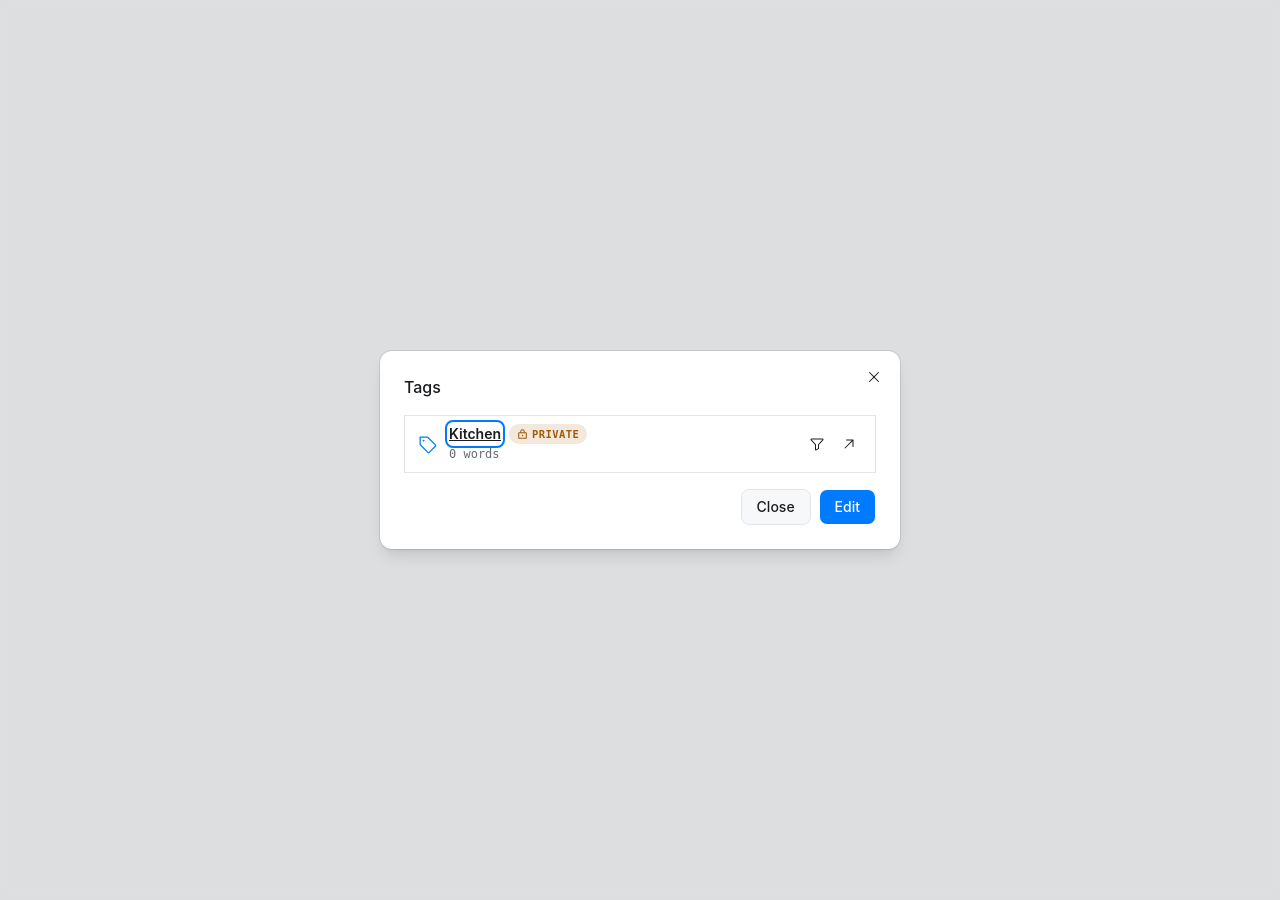
it: TagsDialog › Edit shows the × and the add box; Cancel goes back to display mode
Click the button "Edit".
click(847, 507)  # box [819, 489, 876, 525]
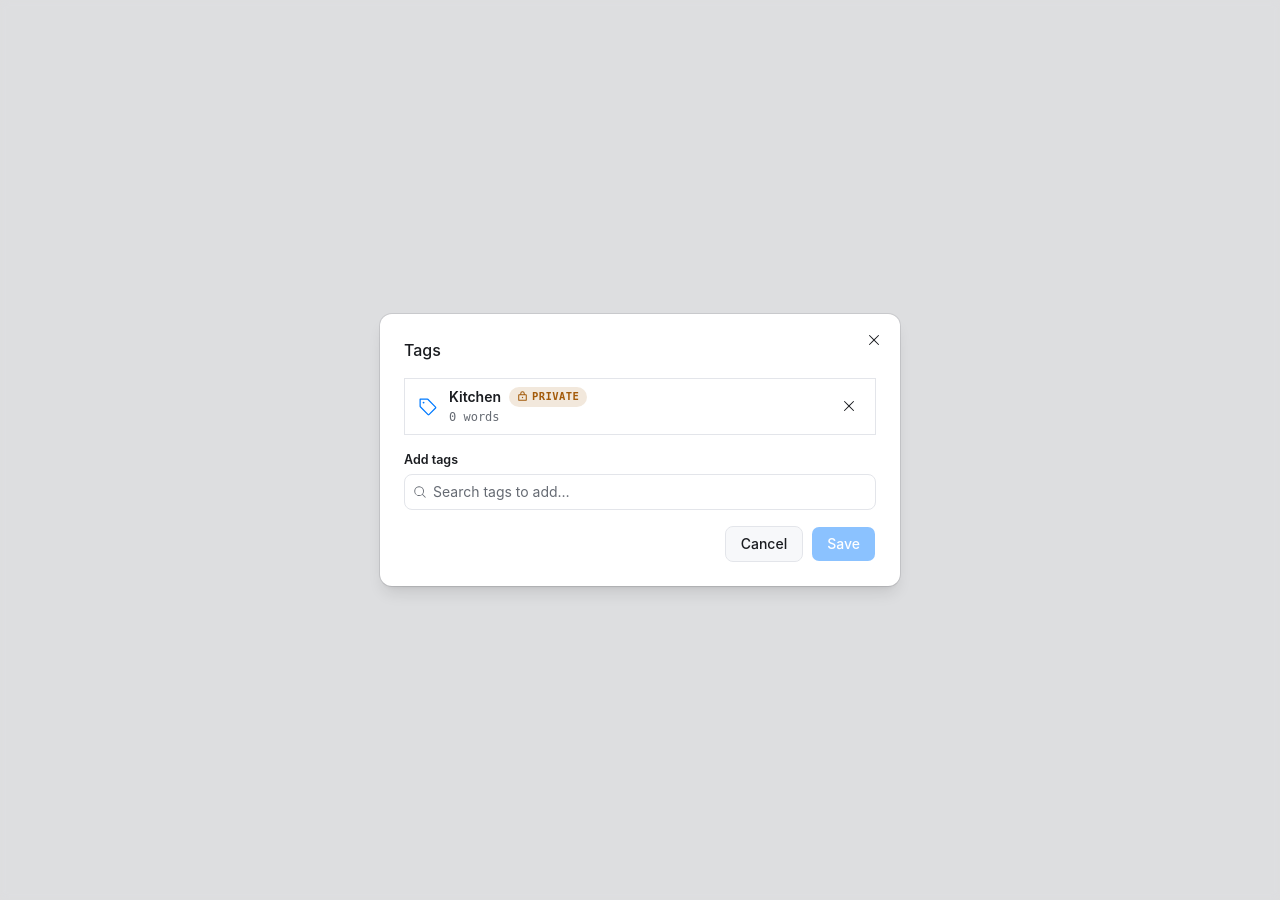
Result: the button named "Remove tag Kitchen" is shown at [835, 392, 863, 420]
Result: the dropdown with placeholder "Search tags to add…" is shown at [433, 482, 867, 502]
Result: the button "Save" is disabled at [811, 526, 876, 562]
Click the button "Cancel".
click(764, 544)  # box [725, 526, 803, 562]
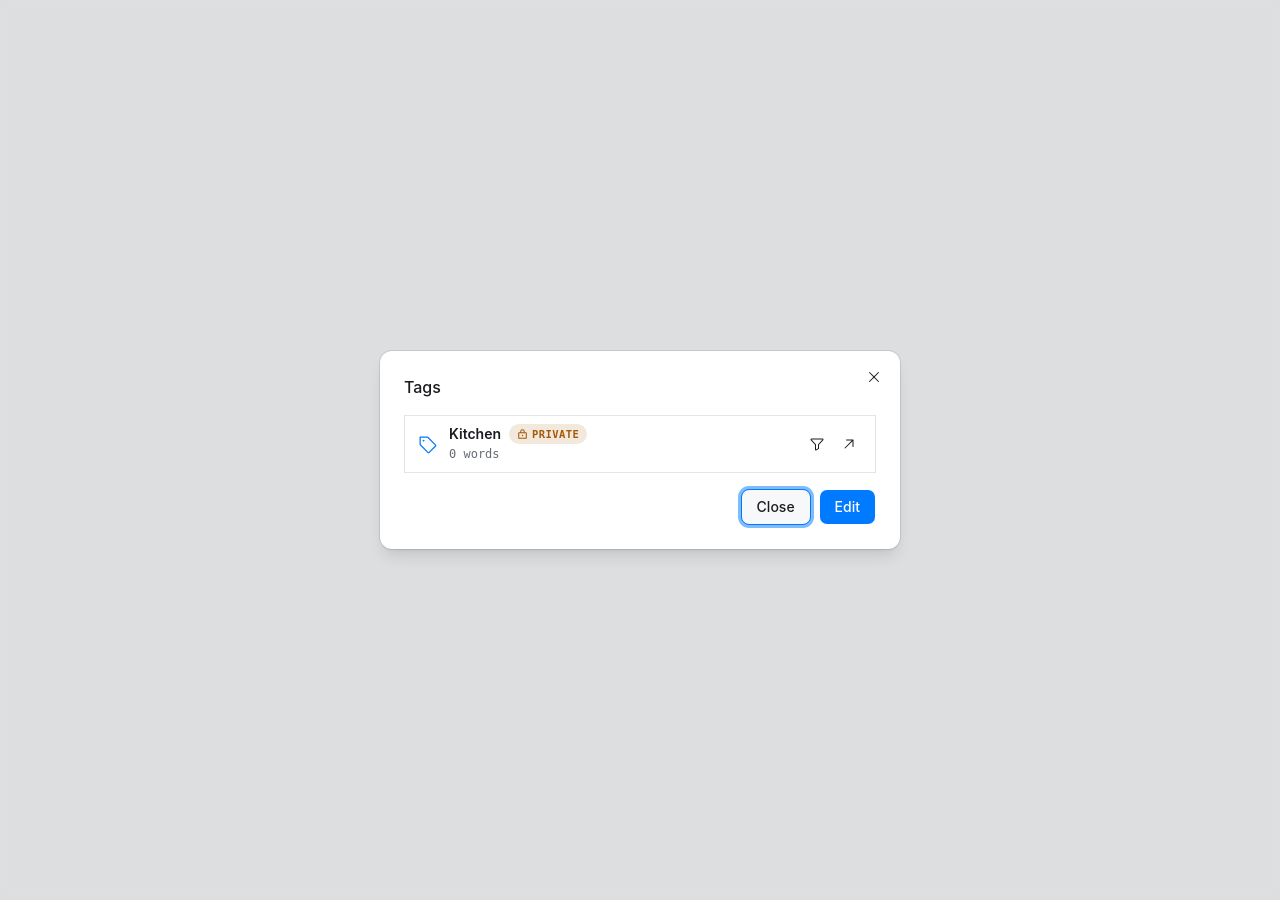
Result: the button "Edit" is shown at [819, 489, 876, 525]
